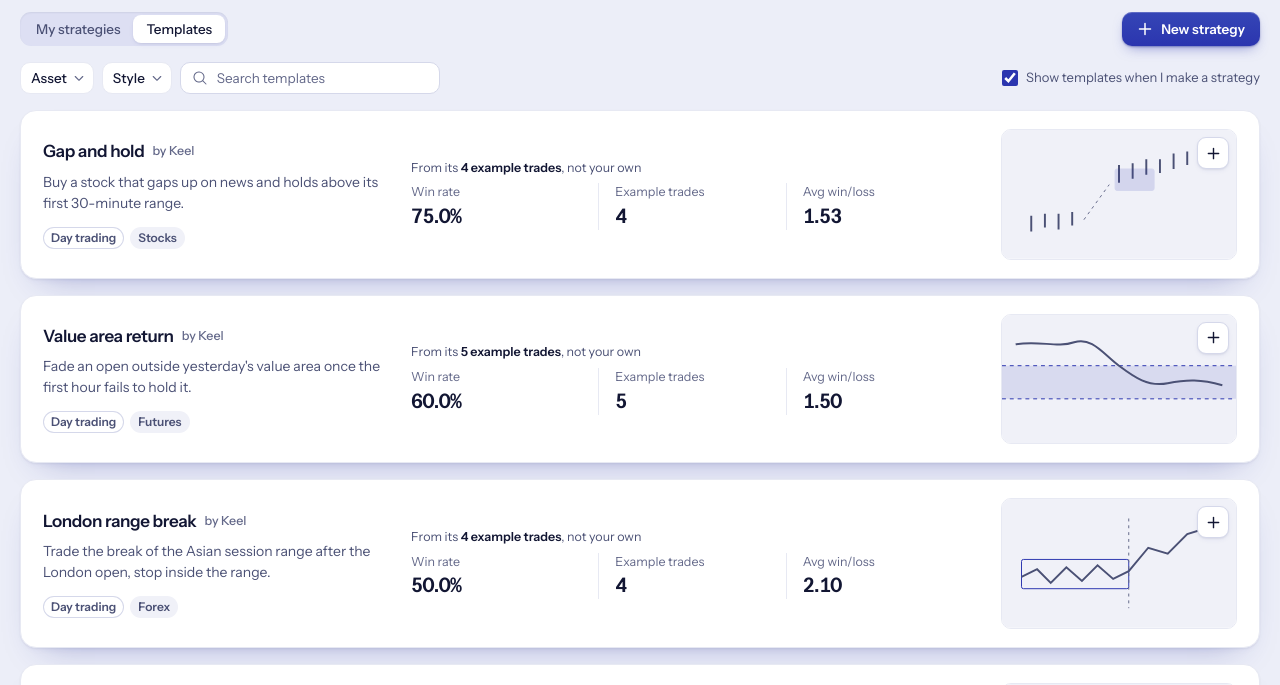
Test: a copy whose write fails leaves no strategy and no file behind
Expected: the heading "London range break" is shown, x1=43 y1=510 x2=196 y2=533
Click the button named "Add a copy of London range break to My strategies": (1213, 522) x1=1197 y1=506 x2=1229 y2=538
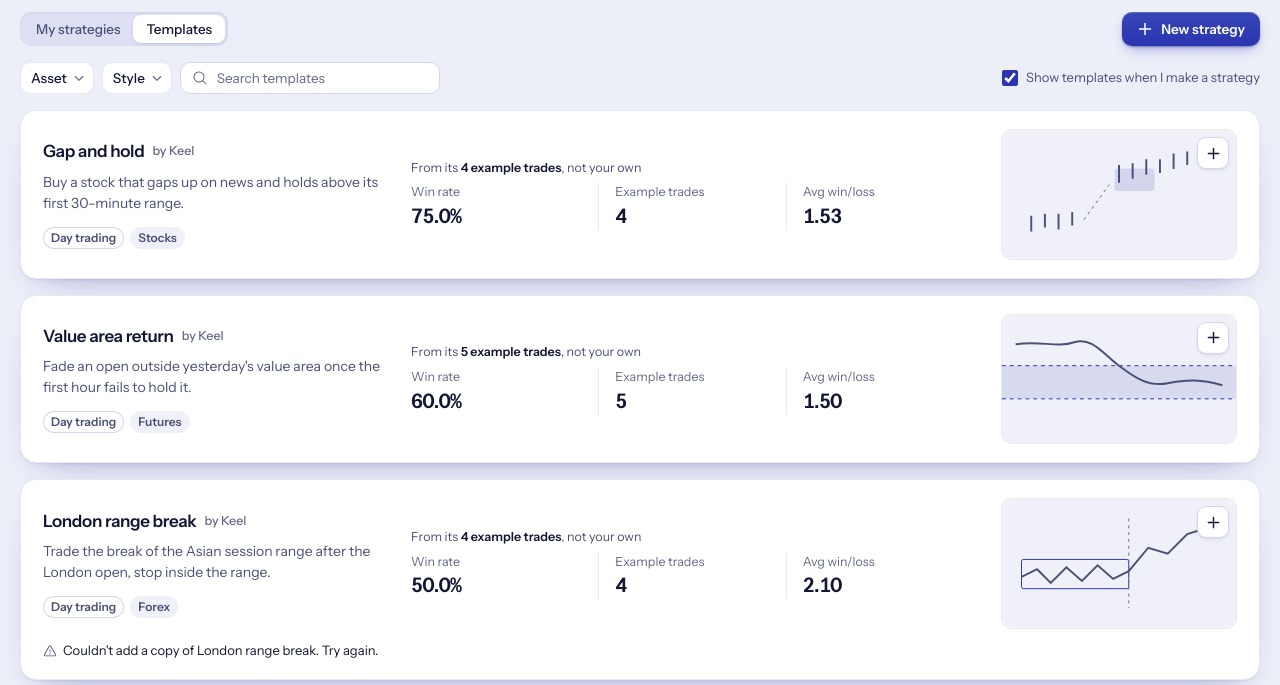
Now the message shows "Couldn't add a copy", box x1=63 y1=642 x2=197 y2=658
